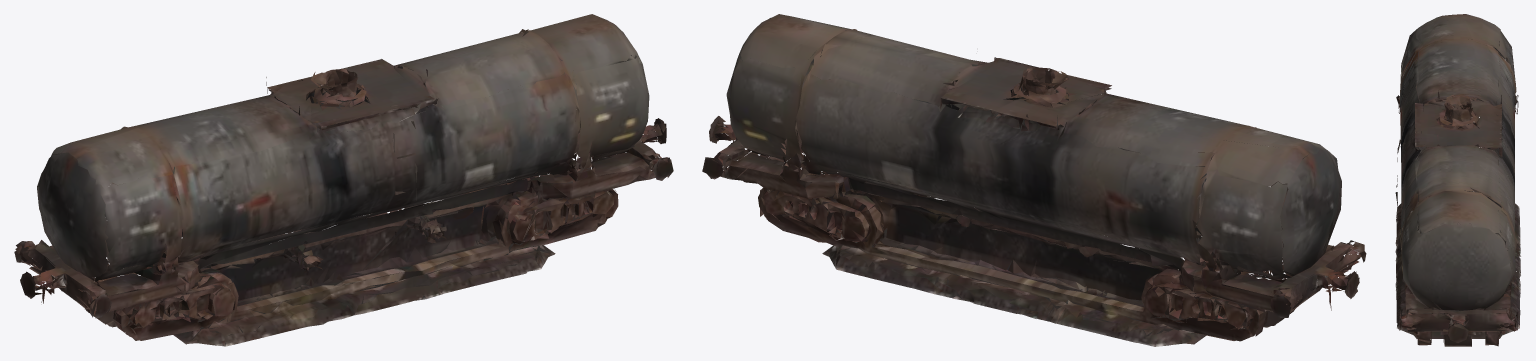
Rendered from container_tankcar_open.glb.
3 renders of one model, left to right at view 1: azimuth 30°, elevation 25°; view 2: azimuth 150°, elevation 25°; view 3: azimuth 270°, elevation 25°, orthographic. The views are drawn at different scales.
Parts seen in each view (by area): view 1: container_tankcar_open; view 2: container_tankcar_open; view 3: container_tankcar_open.
Boxes of the visible parts, bbox=[...] form: container_tankcar_open: bbox=[14, 14, 673, 346]; container_tankcar_open: bbox=[702, 14, 1366, 346]; container_tankcar_open: bbox=[1395, 14, 1520, 346].
Size of the model in its own units: 11.98 by 3.78 by 2.61.
Materials: 1 (1 with a texture image).
